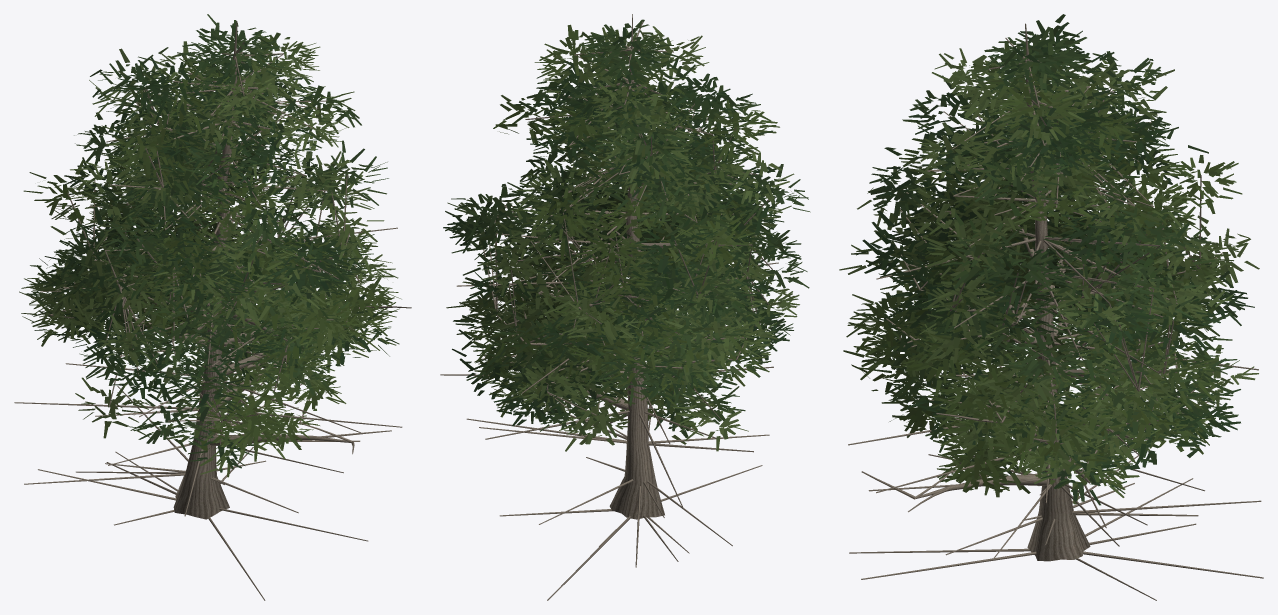
The model's file is cypt.glb.
3 views of the same model, side by side, from view 1: azimuth 30°, elevation 25°; view 2: azimuth 150°, elevation 25°; view 3: azimuth 270°, elevation 25° (orthographic). The views are drawn at different scales.
Visible parts, largest first — view 1: cypt_lod0_1, cypt_lod0_0; view 2: cypt_lod0_1, cypt_lod0_0; view 3: cypt_lod0_1, cypt_lod0_0.
Boxes of the visible parts, x1,y1,x2,y2 form: cypt_lod0_1: (19,14,401,477); cypt_lod0_0: (14,21,411,600); cypt_lod0_1: (443,19,810,451); cypt_lod0_0: (440,14,778,600); cypt_lod0_1: (839,14,1259,505); cypt_lod0_0: (848,23,1263,600).
Size of what is drawn, in the model's own units: 13.25 by 19.45 by 13.21.
Materials: 2 (1 with a texture image).
